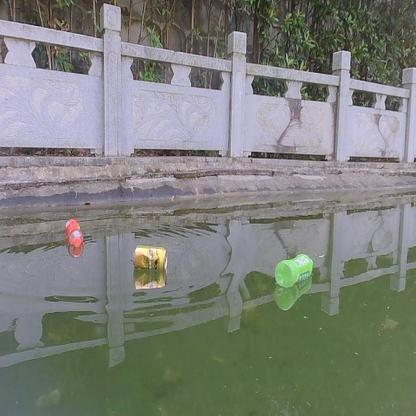can: (132, 246, 168, 268)
plastic bottle: (274, 254, 314, 287), (65, 219, 85, 249)
